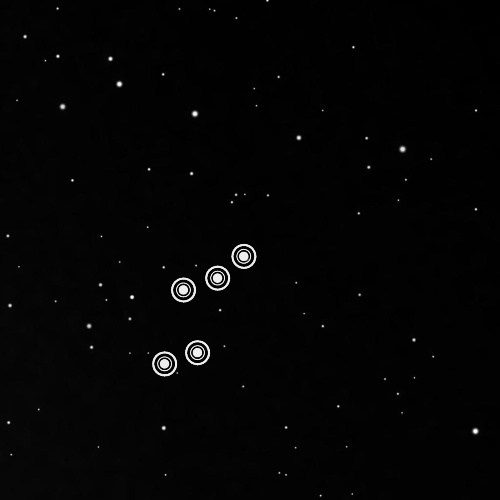lyra: (145, 230, 262, 384)
